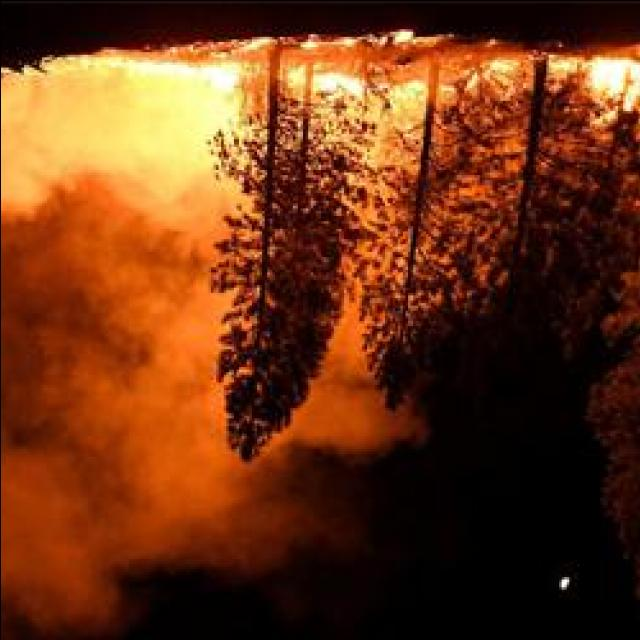fire: (460, 48, 633, 100), (235, 38, 419, 80)
smoke: (40, 231, 226, 418), (342, 248, 519, 374), (33, 89, 169, 186)
